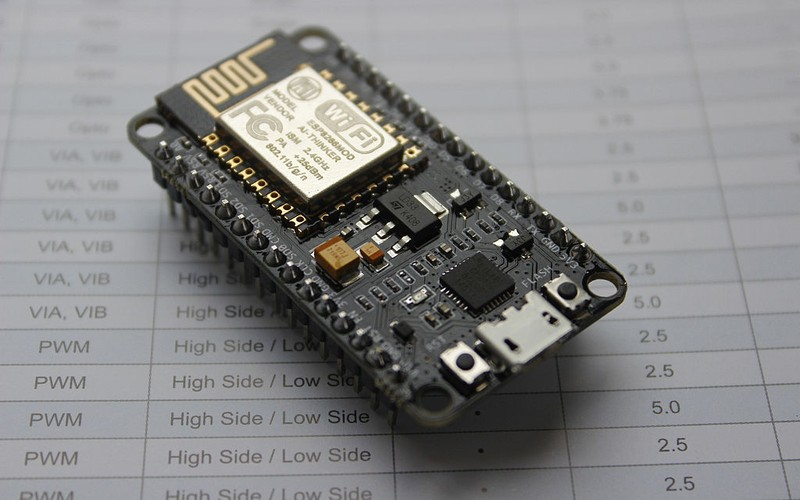IoT Sensor: (117, 17, 641, 429)
